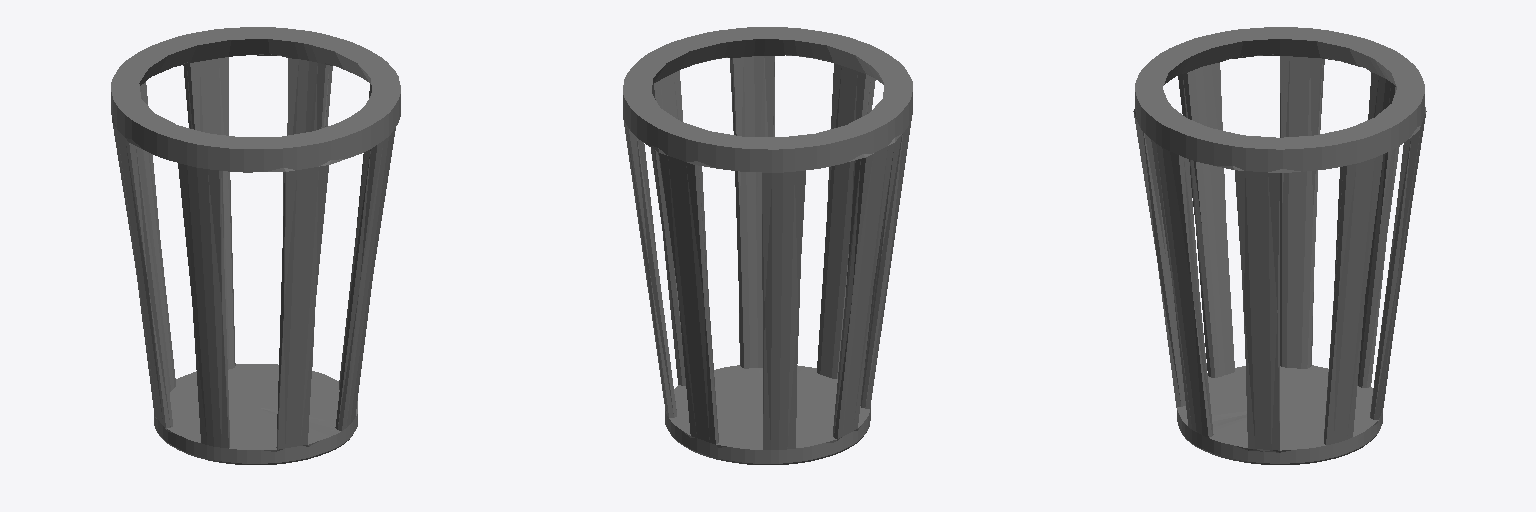
The model's file is garbagecan.obj.
3 renders of one model, left to right at view 1: azimuth 30°, elevation 25°; view 2: azimuth 150°, elevation 25°; view 3: azimuth 270°, elevation 25°, orthographic.
Visible parts, largest first — view 1: group8_pasted__group2_pasted__pasted__group1_pasted__pasted__pas; view 2: group8_pasted__group2_pasted__pasted__group1_pasted__pasted__pas; view 3: group8_pasted__group2_pasted__pasted__group1_pasted__pasted__pas.
Part boxes in pixels (bbox=[...]): group8_pasted__group2_pasted__pasted__group1_pasted__pasted__pas: bbox=[111, 27, 400, 464]; group8_pasted__group2_pasted__pasted__group1_pasted__pasted__pas: bbox=[623, 27, 912, 464]; group8_pasted__group2_pasted__pasted__group1_pasted__pasted__pas: bbox=[1133, 27, 1426, 464].
Size of the model in its own units: 2.83 by 3.57 by 2.83.